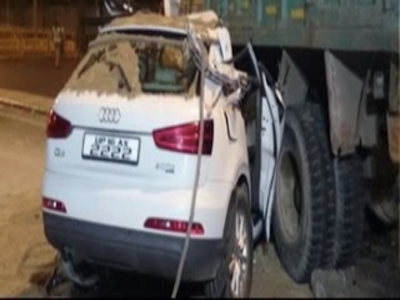licence: (82, 127, 137, 167)
